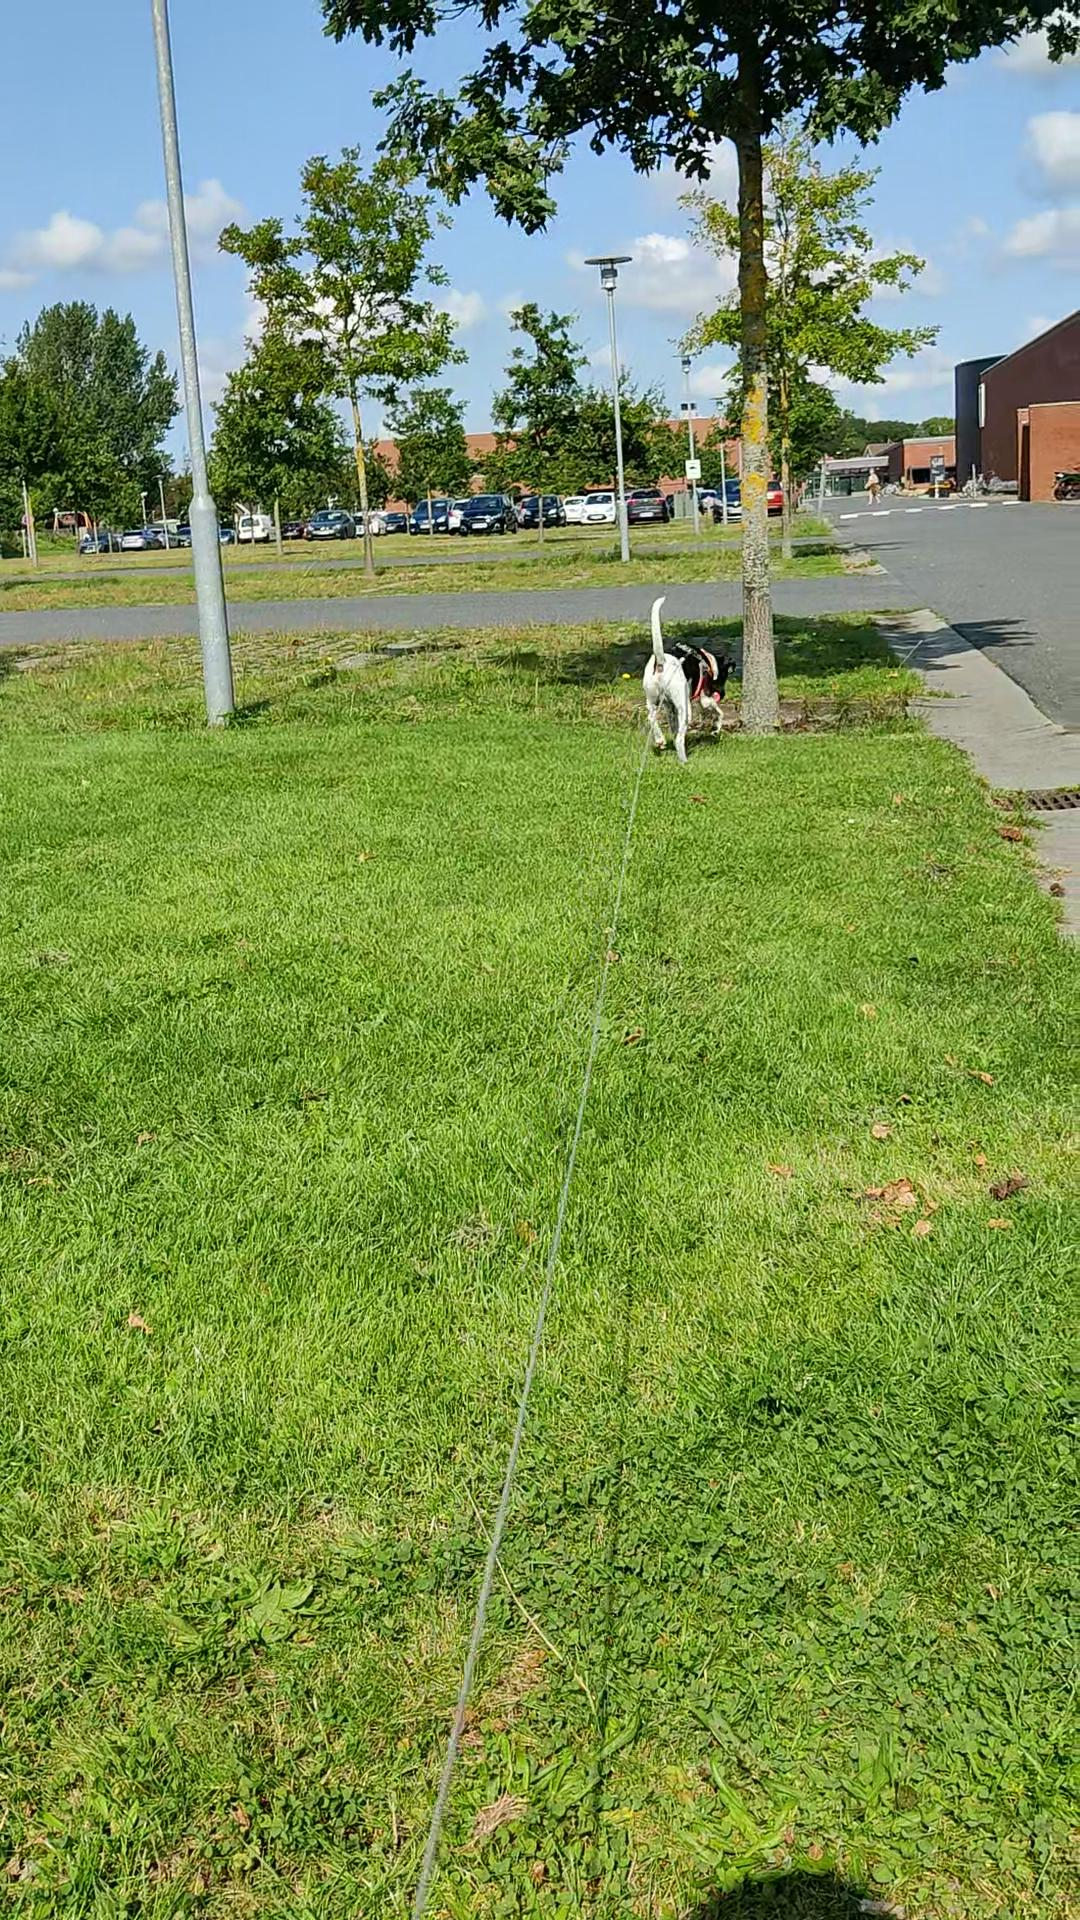Dog: (637, 593, 741, 770)
